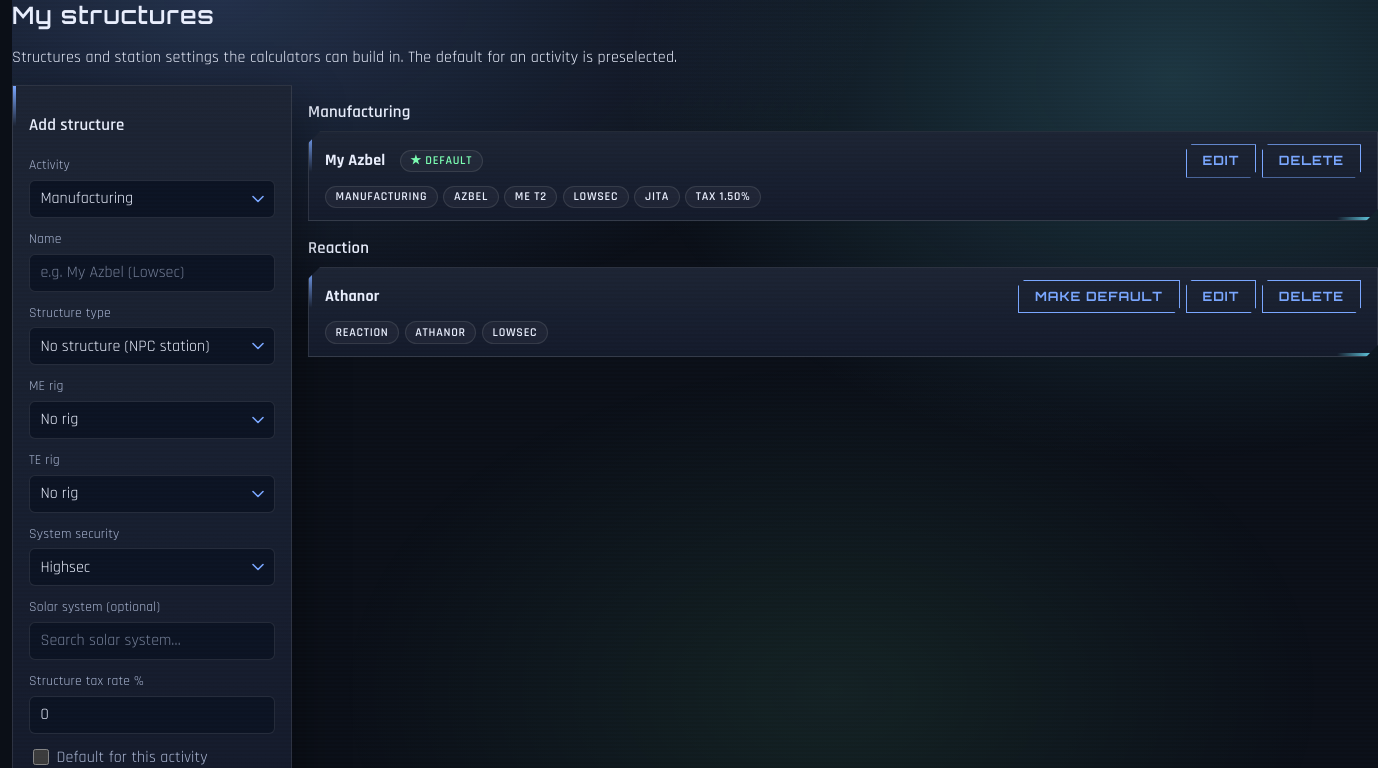
it: Structures › loads a structure into the form to edit, with its system selected
The width and height of the screenshot is (1378, 768).
Click the button "Edit" in the row of "★ Default": (1221, 161) [1186,144,1256,178]
(page scrolled)
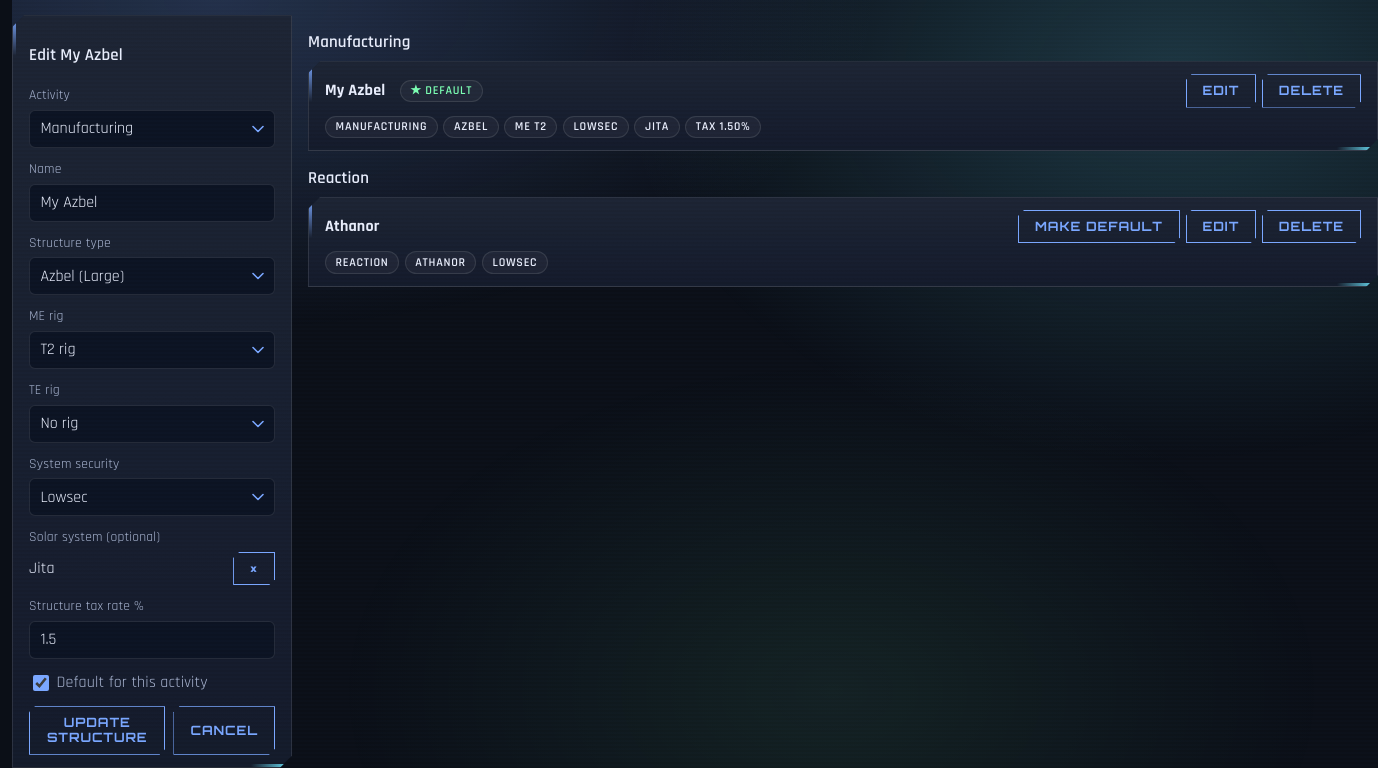
expect the heading "Edit My Azbel" is shown: met, box [29,44,123,66]
expect the field labelled "Name" holds "My Azbel": met, box [29,184,275,222]
expect the dropdown labelled "Structure type" shows "Azbel (Large)": met, box [29,257,275,295]
